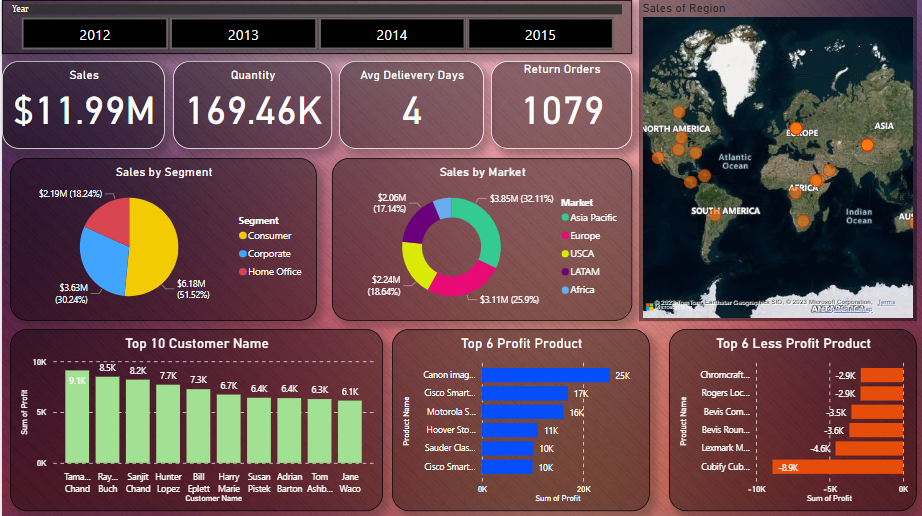

The page's visual inventory and layout, read from the dashboard file:
{"tool":"powerbi","page":{"name":"Page 1","canvas":[1280,720],"ordinal":0},"visuals":[{"type":"card","title":"Sales","fields":{"Values":["Sum(Orders.Sales)"]},"box":[0,84.7,226.4,122.2],"z":0},{"type":"card","title":"Quantity","fields":{"Values":["Sum(Orders.Quantity)"]},"box":[237.5,84.7,220.8,122.2],"z":1000},{"type":"card","title":"Avg Delievery Days","fields":{"Values":["Avg(Orders.Delievery Days)"]},"box":[468.1,84.7,201.4,122.2],"z":2000},{"type":"slicer","fields":{"Values":["Orders.Year"]},"box":[0,0,875,75],"z":3000},{"type":"card","title":"Return Orders","fields":{"Values":["Sum(Returns.Returned Orders)"]},"box":[679.2,84.7,195.8,122.2],"z":4000},{"type":"map","fields":{"Category":["Orders.Region"]},"box":[884.7,0,386.1,445.8],"z":5000},{"type":"barChart","title":"Top 6 Profit Product","fields":{"Category":["Orders.Product Name"],"Y":["Sum(Orders.Profit)"]},"box":[541.7,456.9,358.3,252.8],"z":6000},{"type":"barChart","title":"Top 6 Less Profit Product","fields":{"Category":["Orders.Product Name"],"Y":["Sum(Orders.Profit)"]},"box":[926.4,456.9,344.4,252.8],"z":7000},{"type":"pieChart","title":"Sales by Segment","fields":{"Category":["Orders.Segment"],"Y":["Sum(Orders.Sales)"]},"box":[11.1,219.4,426.4,226.4],"z":8000},{"type":"donutChart","title":"Sales by Market","fields":{"Y":["Sum(Orders.Sales)"],"Category":["Orders.Market"]},"box":[458.3,219.4,416.7,226.4],"z":9000},{"type":"columnChart","title":"Top 10 Customer Name","fields":{"Category":["Orders.Customer Name"],"Y":["Sum(Orders.Profit)"]},"box":[11.1,456.9,518.1,252.8],"z":10000}]}

Visuals, with their boxes in screenshot pixels (x1, y1, x2, y2), scaled from the page's 1280x720 canvas onto the 922x516 screenshot:
"Sales" card: detection(0, 61, 163, 148)
"Quantity" card: detection(171, 61, 330, 148)
"Avg Delievery Days" card: detection(337, 61, 482, 148)
slicer - Orders.Year: detection(0, 0, 630, 54)
"Return Orders" card: detection(489, 61, 630, 148)
map - Orders.Region: detection(637, 0, 915, 319)
"Top 6 Profit Product" barChart: detection(390, 327, 648, 509)
"Top 6 Less Profit Product" barChart: detection(667, 327, 915, 509)
"Sales by Segment" pieChart: detection(8, 157, 315, 319)
"Sales by Market" donutChart: detection(330, 157, 630, 319)
"Top 10 Customer Name" columnChart: detection(8, 327, 381, 509)
